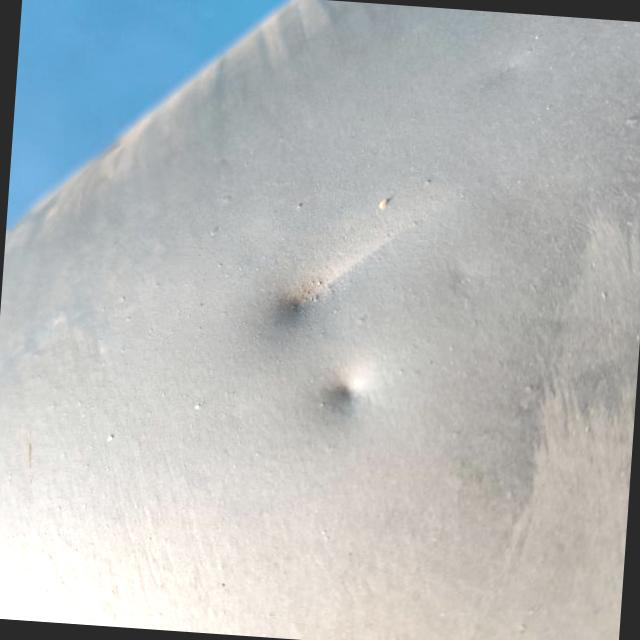dent: (246, 218, 408, 356), (306, 358, 382, 428)
